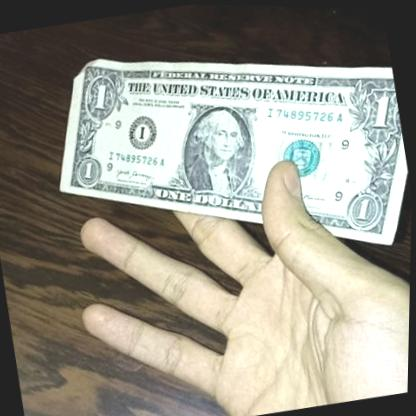one-front: (33, 3, 416, 276)
